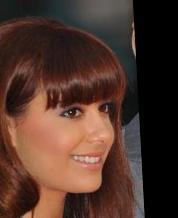face: (61, 102, 116, 170)
